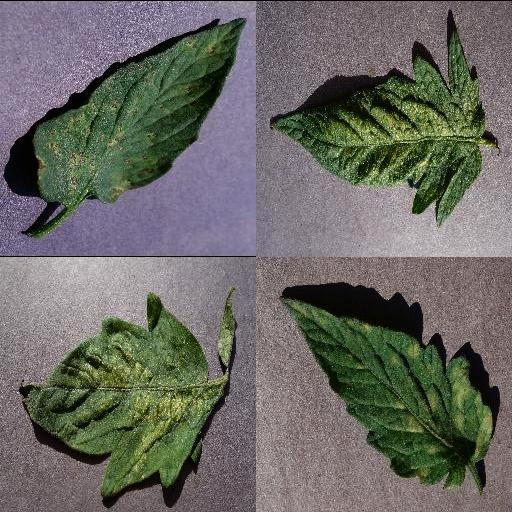Leaf Mold: (278, 296, 494, 486)
Septoria: (33, 15, 247, 205)
Spider Mites: (270, 26, 486, 228), (19, 292, 209, 496)
